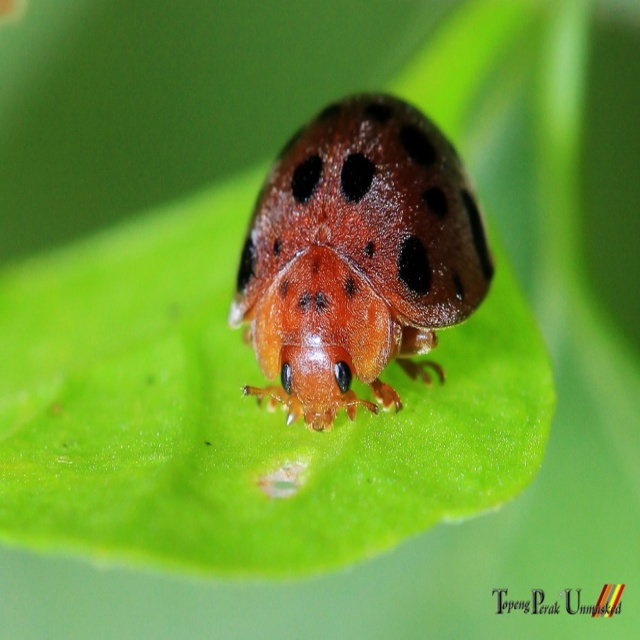Ladybug: (225, 89, 496, 435)
